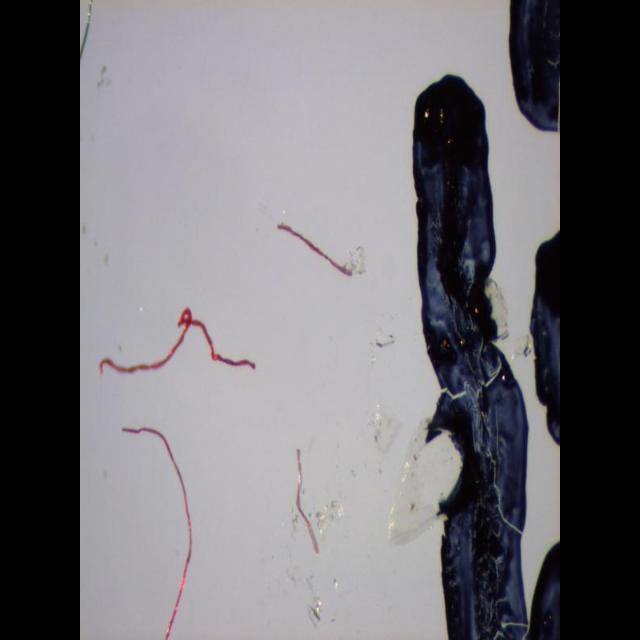Fibre: (389, 71, 531, 637)
